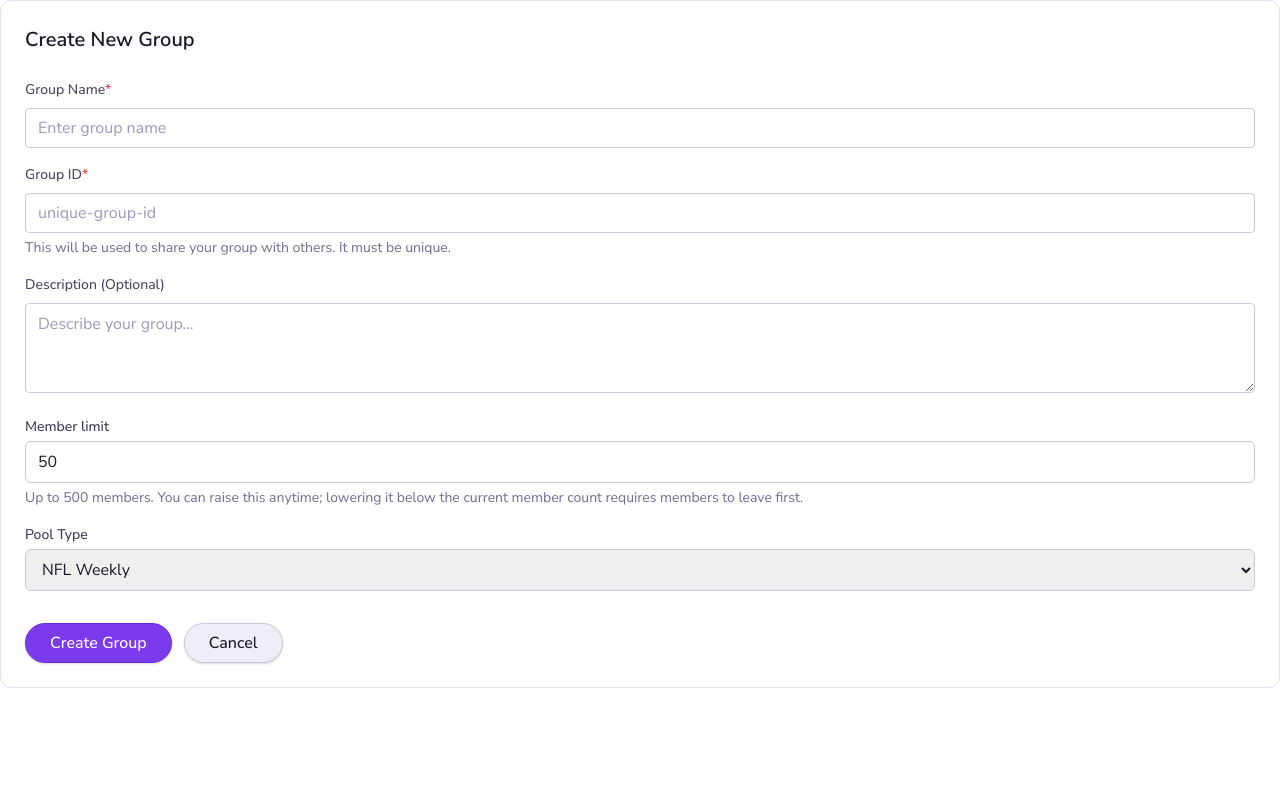
CreateGroupForm › validation › shows error when identifier is empty on submit
In the field labelled "Group Name*": (640, 128) [25,108,1255,148], type "My Group"
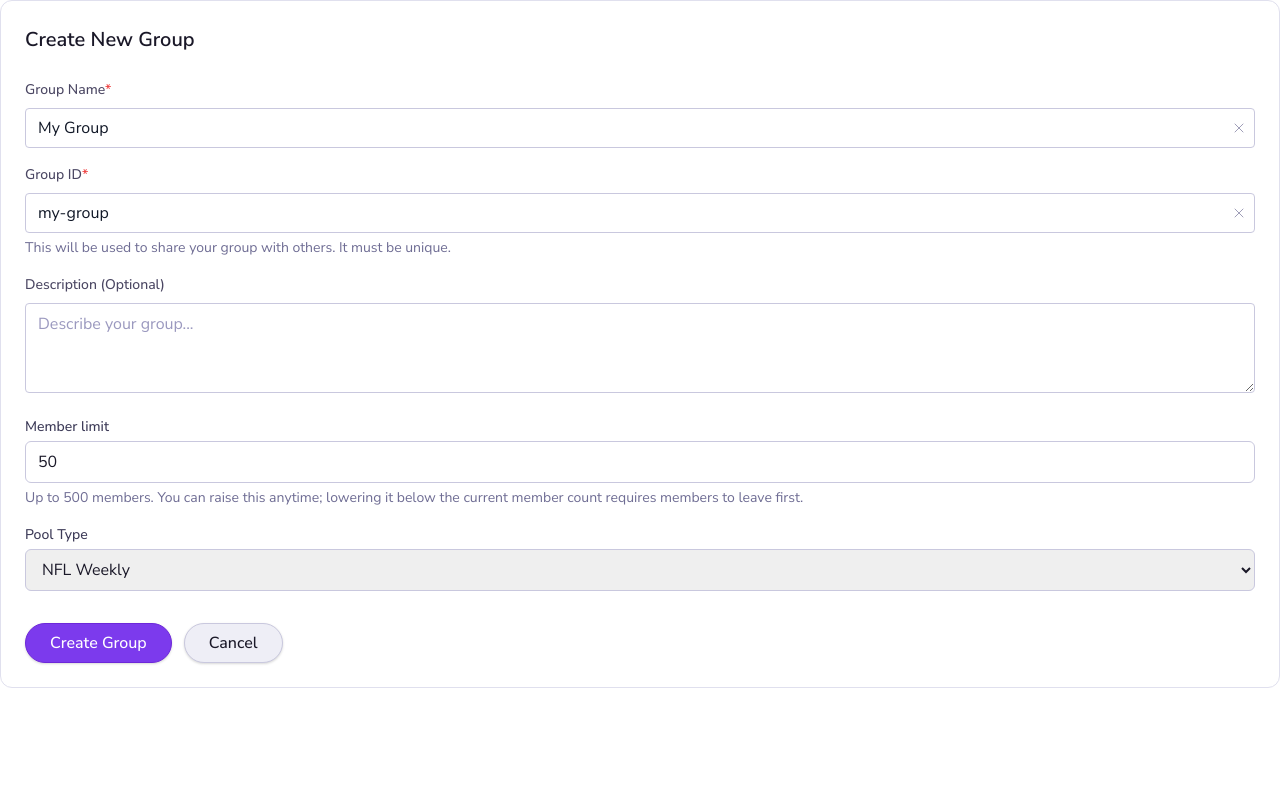
Clear the field labelled "Group ID*": (640, 213) [25,193,1255,233]
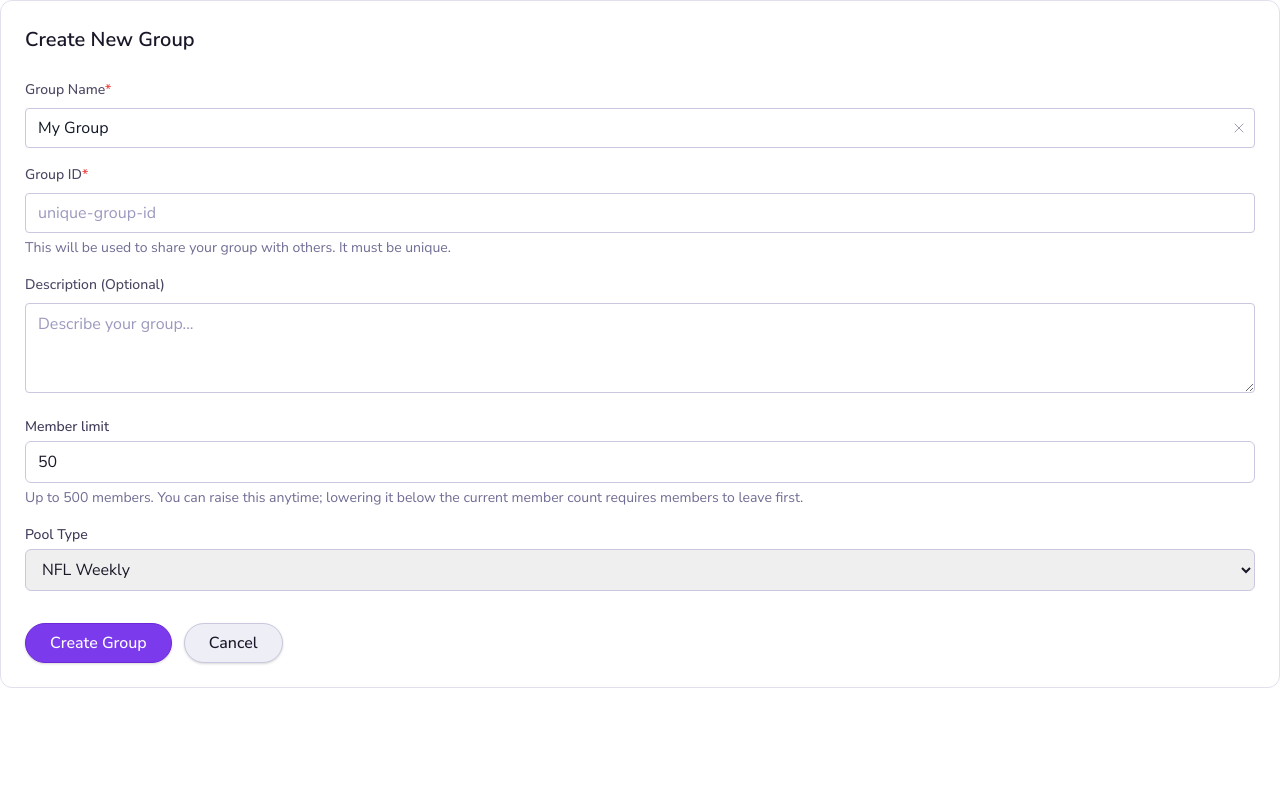
Submit the form named "Create Group"
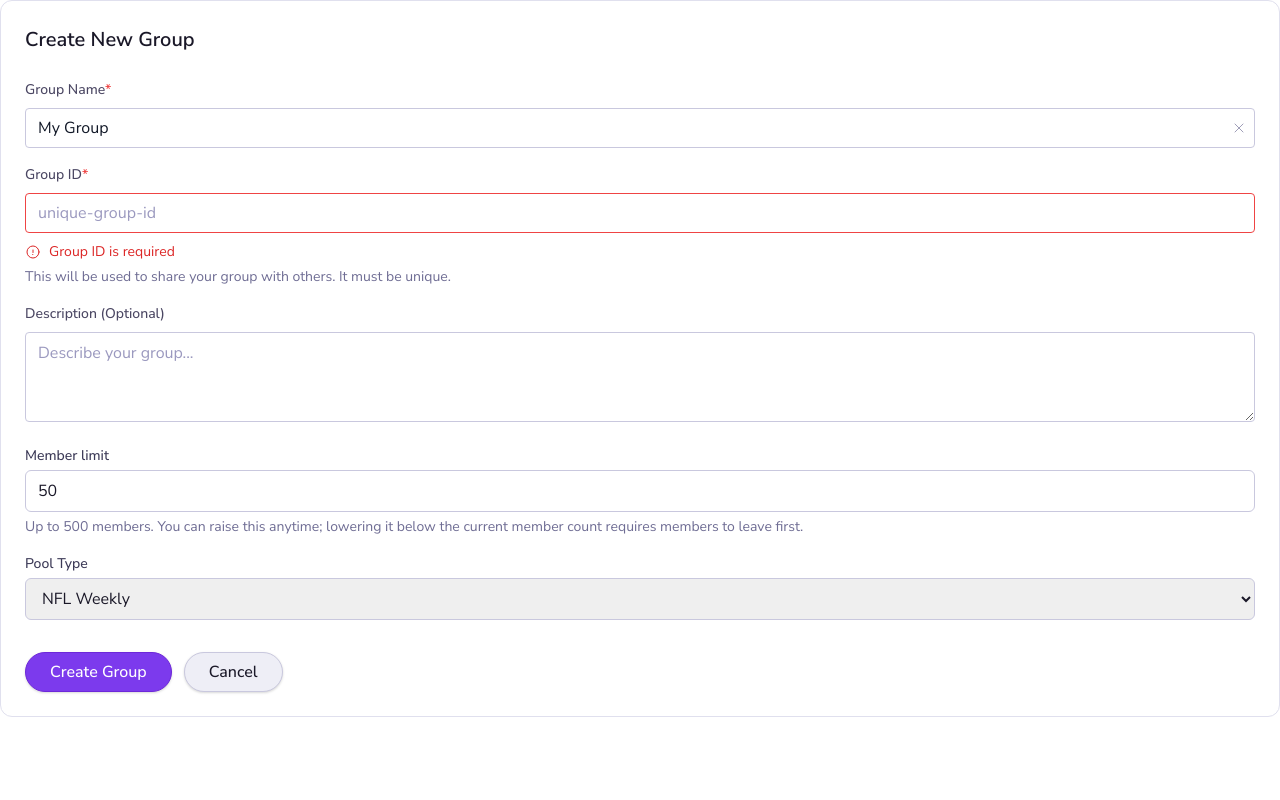
Result: the text "Group ID is required" is shown at [49,241,175,262]
